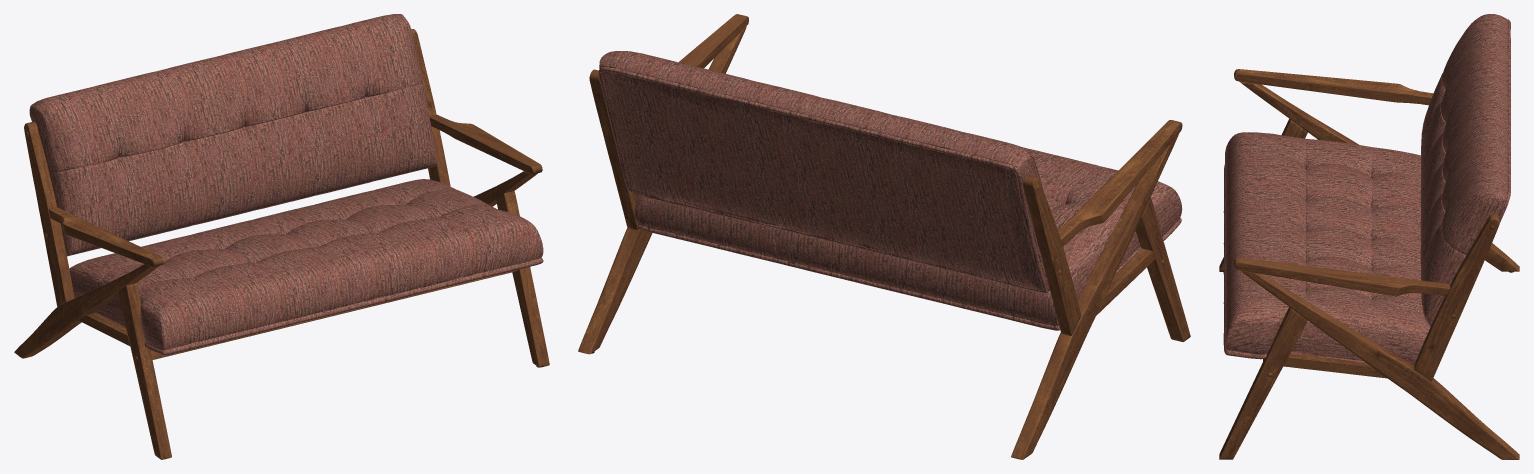
Rendered from LGLY6419.obj.
3 views of the same model, side by side, from view 1: azimuth 30°, elevation 25°; view 2: azimuth 150°, elevation 25°; view 3: azimuth 270°, elevation 25° (orthographic). The views are drawn at different scales.
Visible parts, largest first — view 1: not_clear_obj_1_v6, not_clear_obj_0_v6; view 2: not_clear_obj_1_v6, not_clear_obj_0_v6; view 3: not_clear_obj_1_v6, not_clear_obj_0_v6.
Part boxes in pixels (bbox=[...]): not_clear_obj_1_v6: bbox=[29, 14, 543, 355]; not_clear_obj_0_v6: bbox=[14, 29, 549, 459]; not_clear_obj_1_v6: bbox=[598, 51, 1182, 330]; not_clear_obj_0_v6: bbox=[578, 14, 1190, 459]; not_clear_obj_1_v6: bbox=[1223, 14, 1510, 364]; not_clear_obj_0_v6: bbox=[1219, 69, 1519, 459].
Size of what is drawn, in the model's own units: 137 by 82.55 by 85.08.
